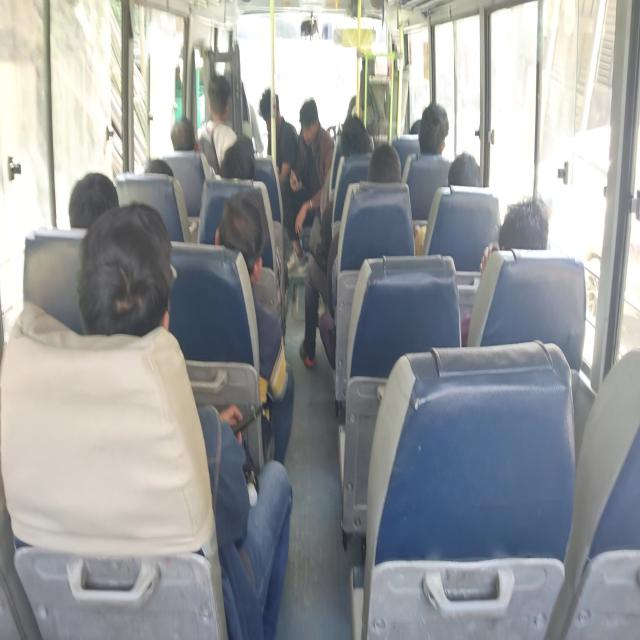person: (82, 218, 174, 335), (500, 198, 569, 276), (198, 205, 261, 290), (58, 179, 124, 244), (448, 153, 491, 206), (371, 145, 407, 202), (260, 78, 290, 144), (170, 109, 214, 153), (142, 153, 186, 193), (222, 140, 260, 186), (416, 107, 446, 158), (300, 106, 326, 157), (208, 72, 234, 120), (339, 128, 368, 168), (412, 114, 422, 134)
